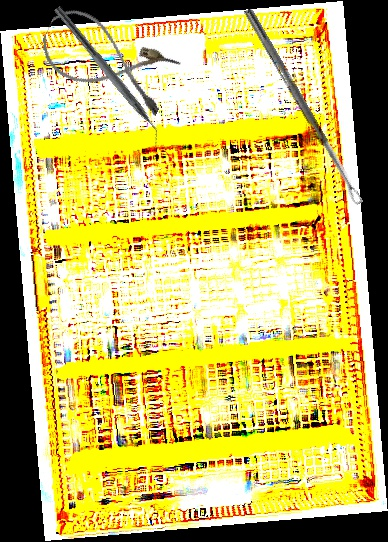Cannula: (32, 0, 183, 121)
Chopper: (44, 5, 170, 149)
Surgical Spoon: (242, 7, 364, 207)
